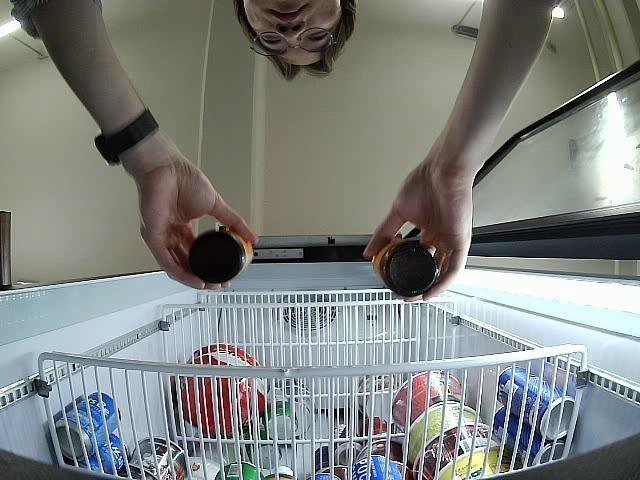17_vita500: (373, 238, 438, 297), (188, 229, 254, 285)
